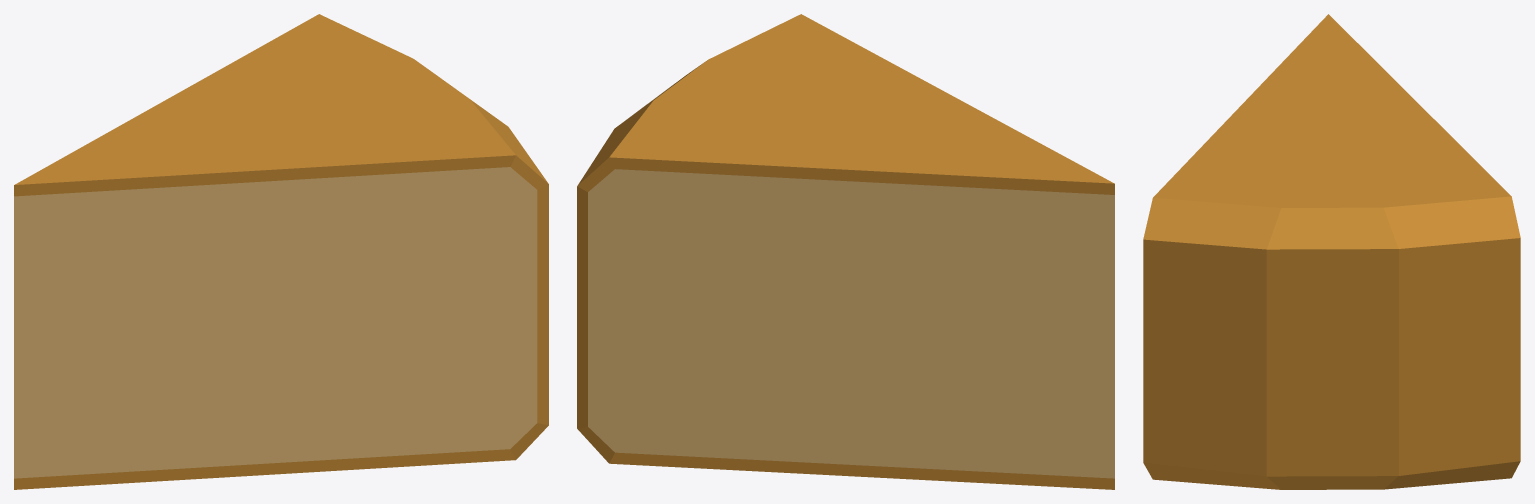
The model's file is Cheese.fbx.
3 views of the same model, side by side, from view 1: azimuth 30°, elevation 25°; view 2: azimuth 150°, elevation 25°; view 3: azimuth 270°, elevation 25° (orthographic). The views are drawn at different scales.
Parts seen in each view (by area): view 1: Cheese; view 2: Cheese; view 3: Cheese.
Part boxes in pixels (bbox=[...]): Cheese: bbox=[14, 14, 548, 489]; Cheese: bbox=[577, 14, 1114, 489]; Cheese: bbox=[1143, 14, 1520, 489].
Size of the model in its own units: 106 by 66.86 by 81.14.
